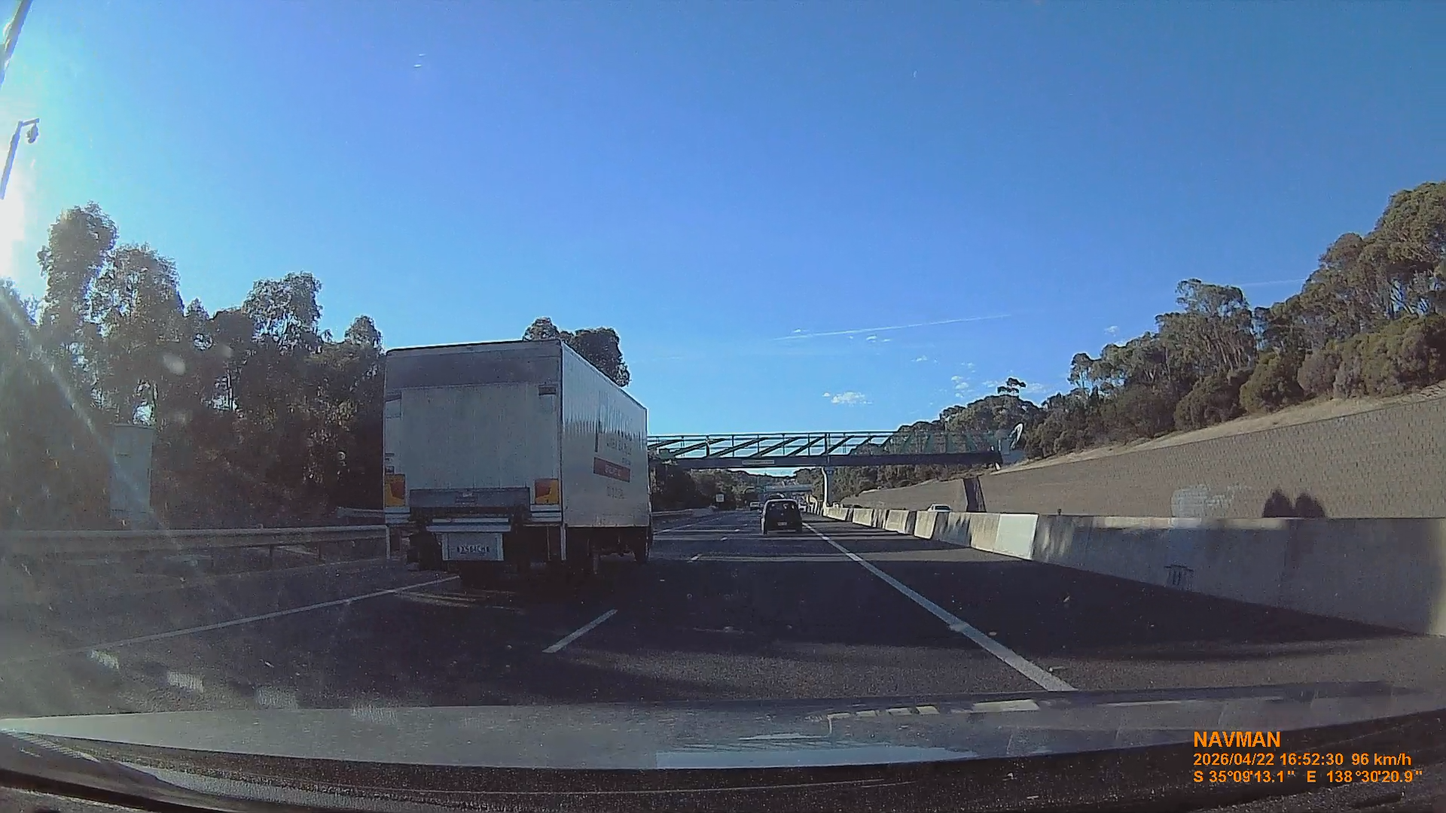road barriers: (826, 502, 1445, 631)
